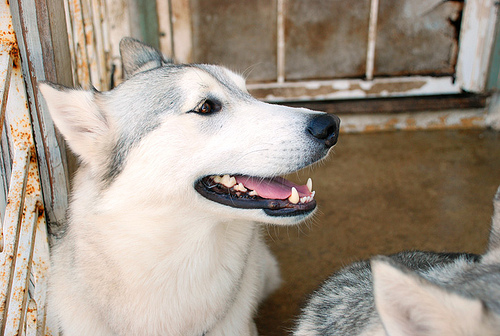dog: (35, 35, 341, 335)
